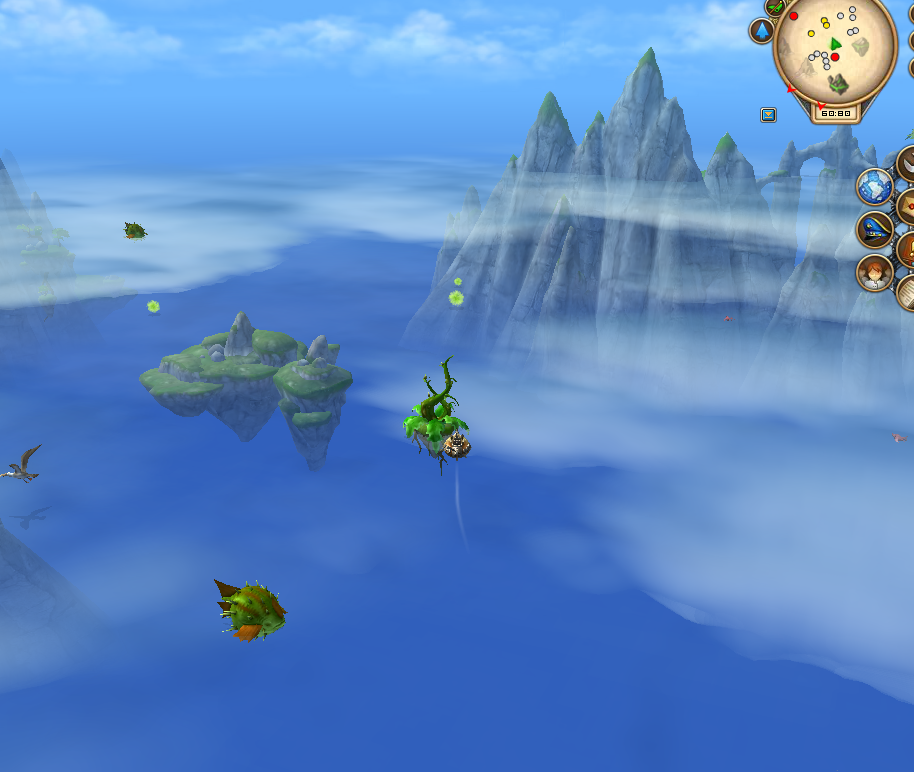dandelion-empty: (395, 356, 468, 464)
fluff: (447, 289, 467, 309), (143, 297, 162, 314), (450, 272, 467, 288)
